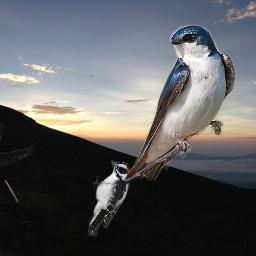Swallow: (124, 23, 236, 183)
Woodpecker: (87, 160, 130, 236)
